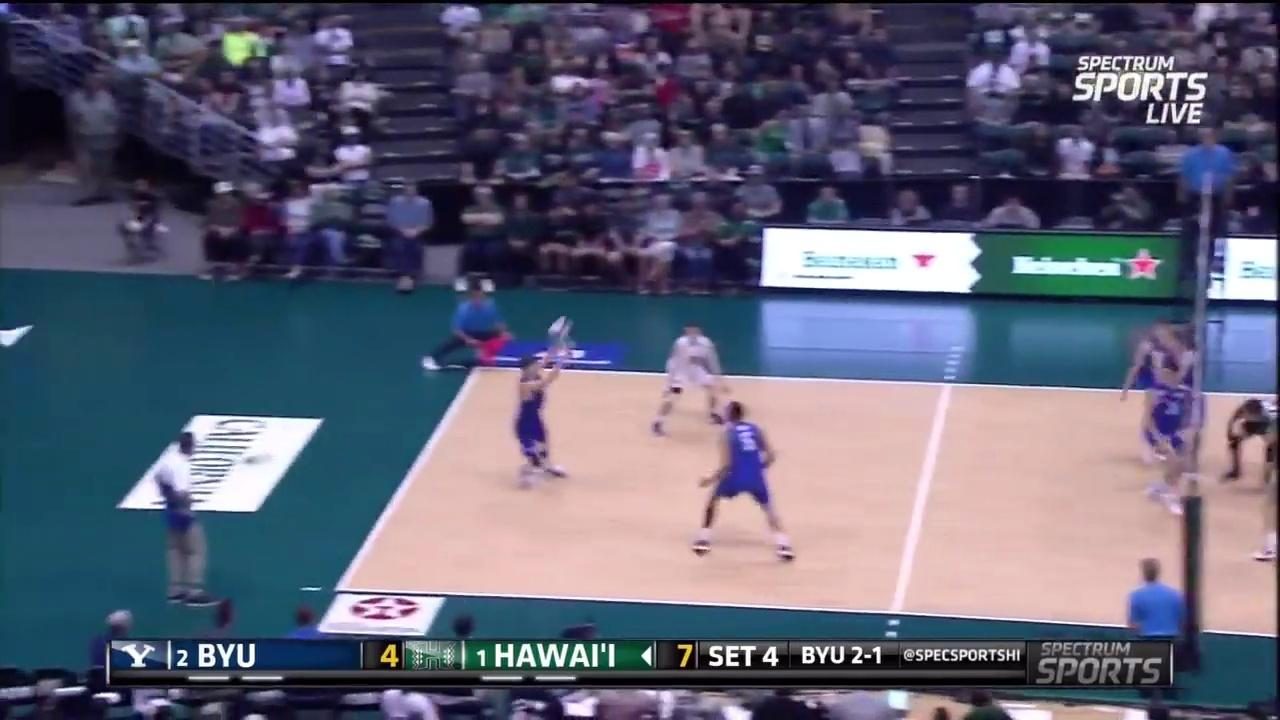player: (690, 406, 800, 558), (516, 323, 578, 492), (1131, 314, 1184, 476), (650, 326, 725, 434), (1149, 363, 1188, 522), (1221, 395, 1280, 485)
refree: (1118, 554, 1192, 720), (1182, 121, 1241, 276), (439, 274, 508, 369)
